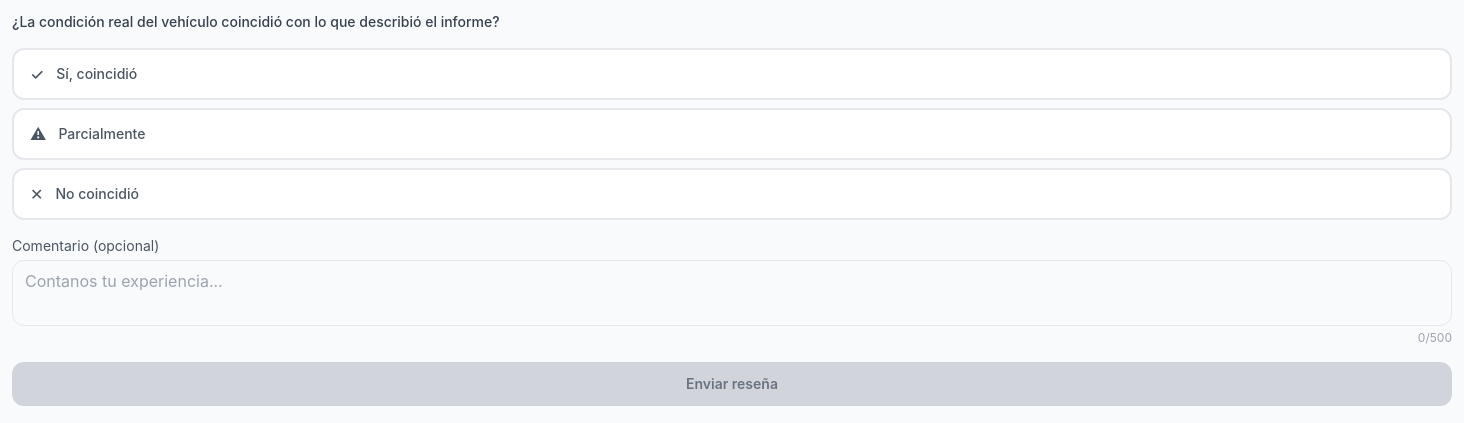
Scenario: ReviewForm › updates character counter as user types
In the text box with test id "review-comment": (732, 293) [12, 260, 1452, 326], type "Hello"
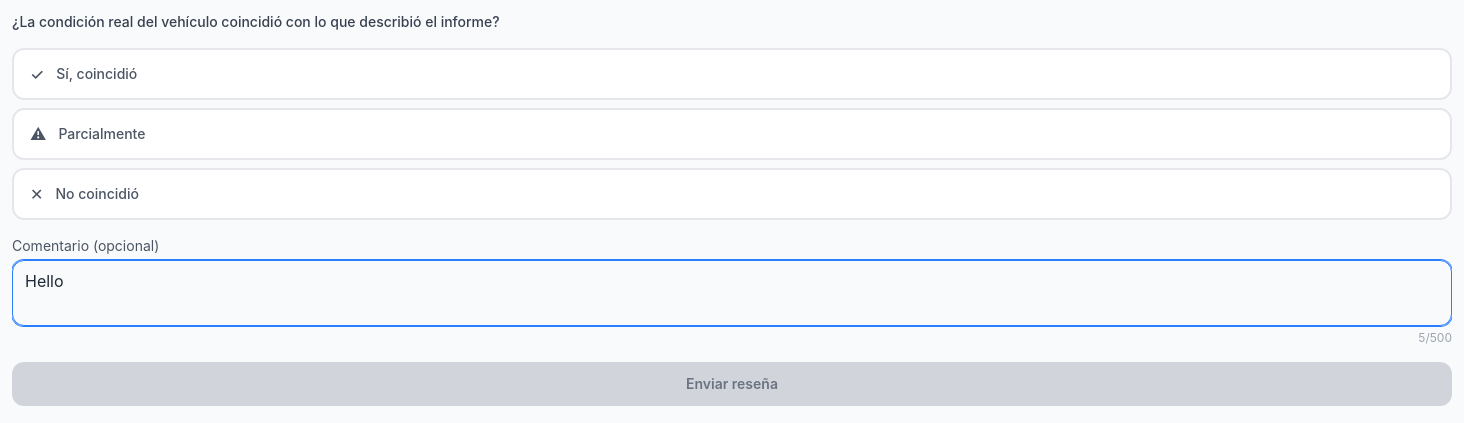
Result: the text "5/500" is shown at [1418, 330, 1452, 345]
